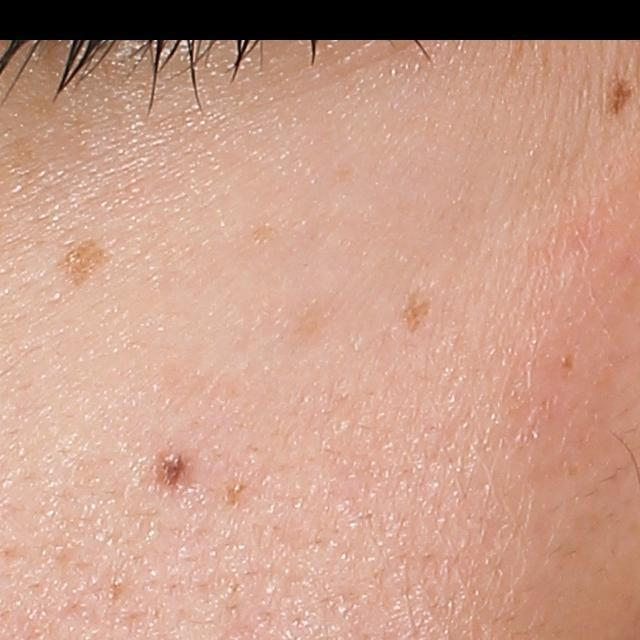melasma: (52, 235, 109, 292)
